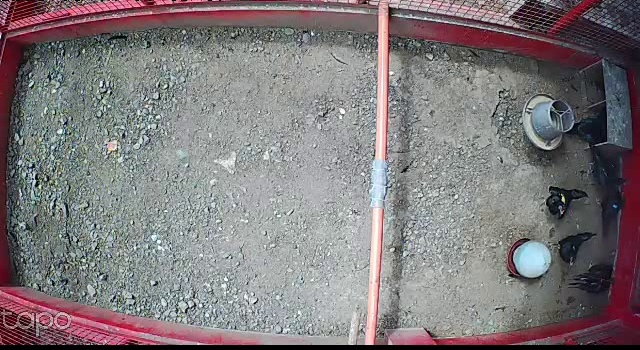Chicken: (583, 143, 634, 195), (538, 180, 587, 224), (546, 230, 596, 271), (592, 187, 627, 245)
Drinker: (505, 235, 555, 280)
Feeder: (522, 92, 575, 149)
Rooster: (565, 259, 619, 297)
Saddle_Color_Blue: (613, 205, 618, 210)
Saddle_Color_Yellow: (560, 193, 567, 203)
